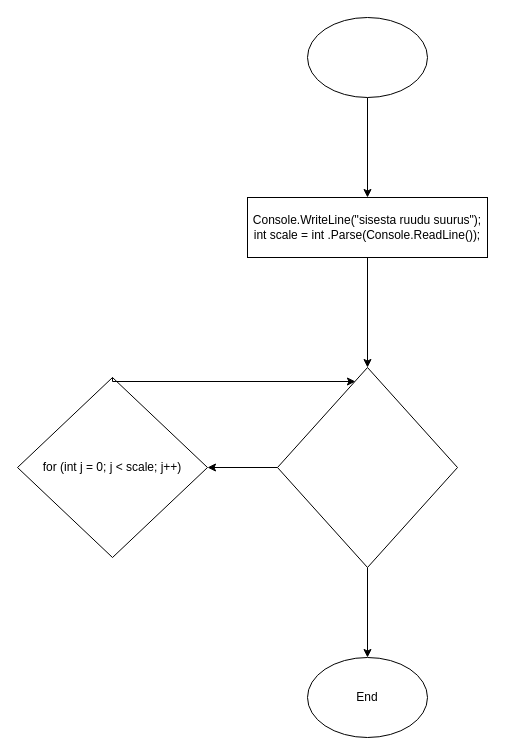
Image size: 505x755. Some labels were removed from this diagram. Here are the shapes that lost their labels. From the top down, the centre of each, then its label:
At point (367, 57): "Start".
At point (367, 467): "for (int i = 0; i < scale; i++)".
